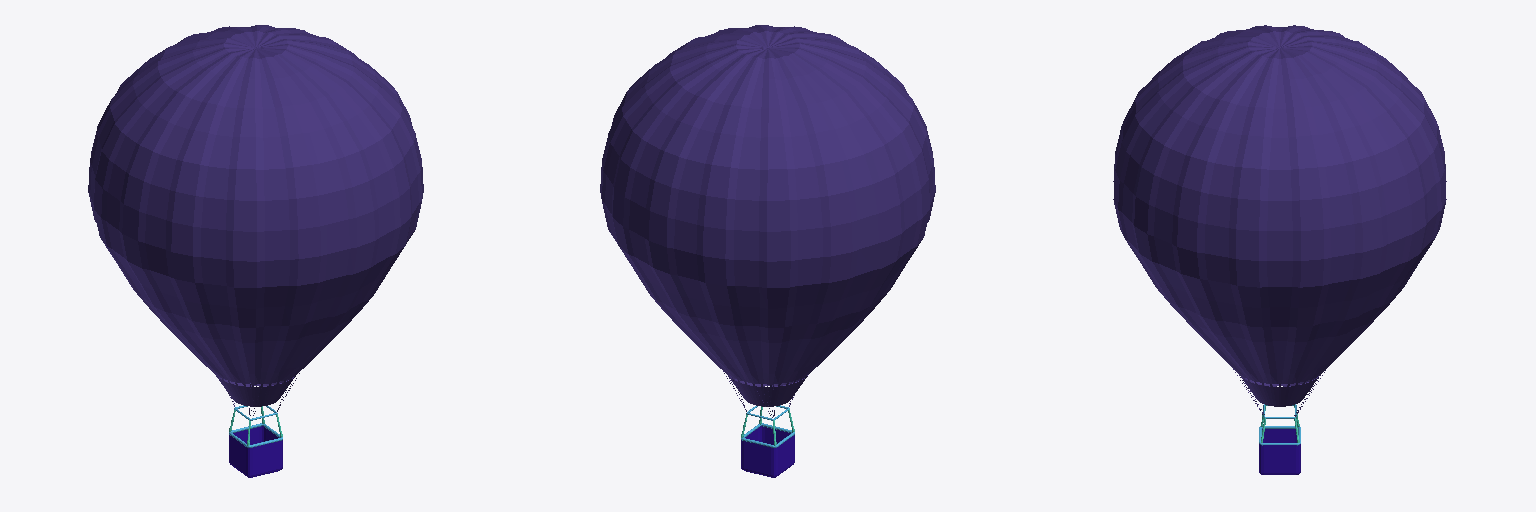
Rendered from Jugador1.obj.
3 views of the same model, side by side, from view 1: azimuth 30°, elevation 25°; view 2: azimuth 150°, elevation 25°; view 3: azimuth 270°, elevation 25° (orthographic).
Parts seen in each view (by area): view 1: Jugador1_Object009; view 2: Jugador1_Object009; view 3: Jugador1_Object009.
Part boxes in pixels (bbox=[...]): Jugador1_Object009: bbox=[88, 25, 423, 477]; Jugador1_Object009: bbox=[600, 25, 935, 477]; Jugador1_Object009: bbox=[1113, 25, 1446, 474].
Bounding box in the file's own units: 9.56 × 13.4 × 9.56.